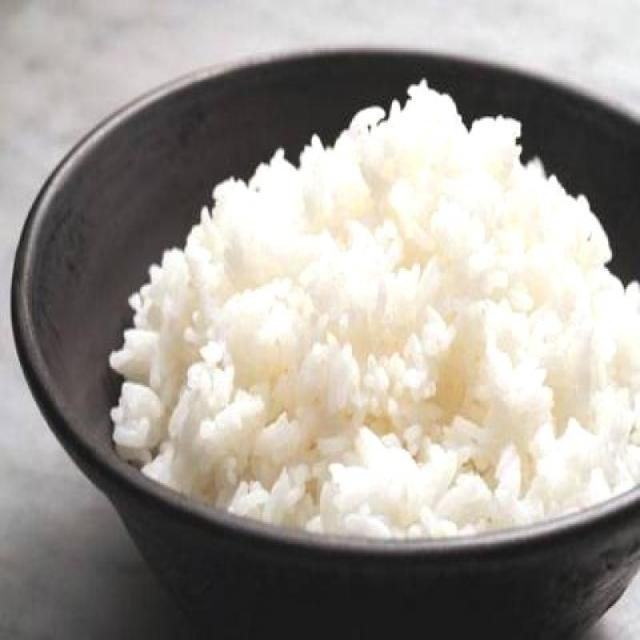rice: (108, 75, 638, 544)
